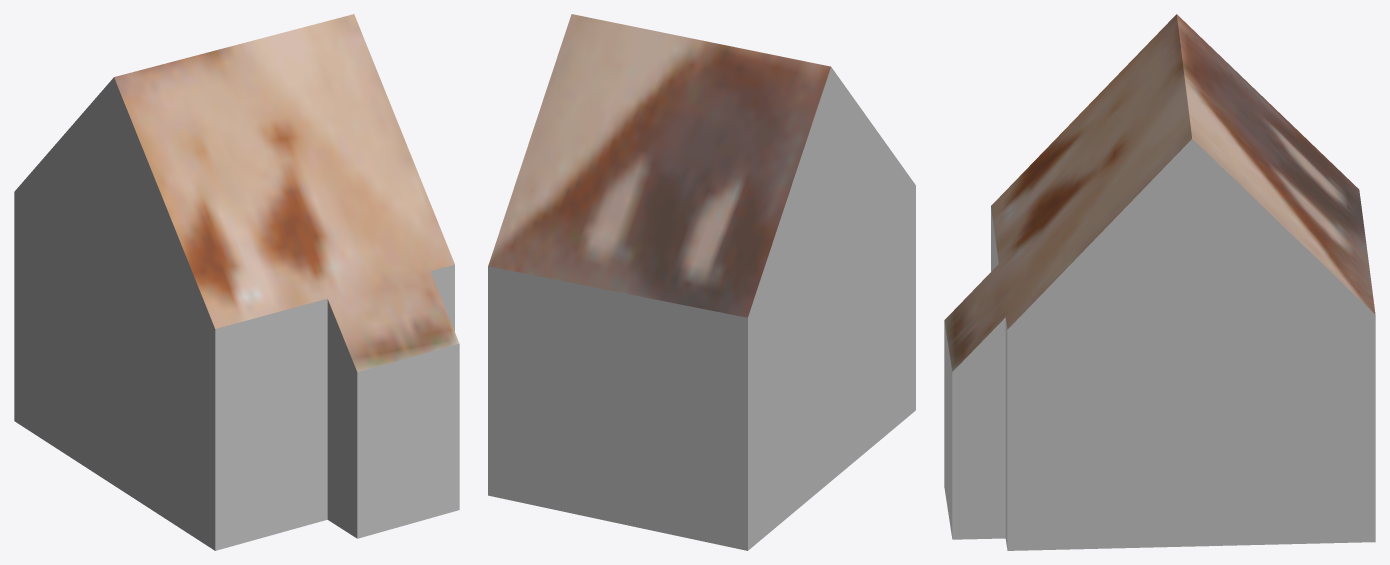
The model's file is DEBW_0010007TxeS.gltf.
3 renders of one model, left to right at view 1: azimuth 30°, elevation 25°; view 2: azimuth 150°, elevation 25°; view 3: azimuth 270°, elevation 25°, orthographic.
Parts seen in each view (by area): view 1: Z_UP; view 2: Z_UP; view 3: Z_UP.
Part boxes in pixels (x1=…): Z_UP: x1=14, y1=14, x2=459, y2=550; Z_UP: x1=488, y1=14, x2=915, y2=550; Z_UP: x1=944, y1=14, x2=1375, y2=550.
Size of the model in its own units: 8.57 by 12.59 by 11.97.
2 materials, 1 textured.
